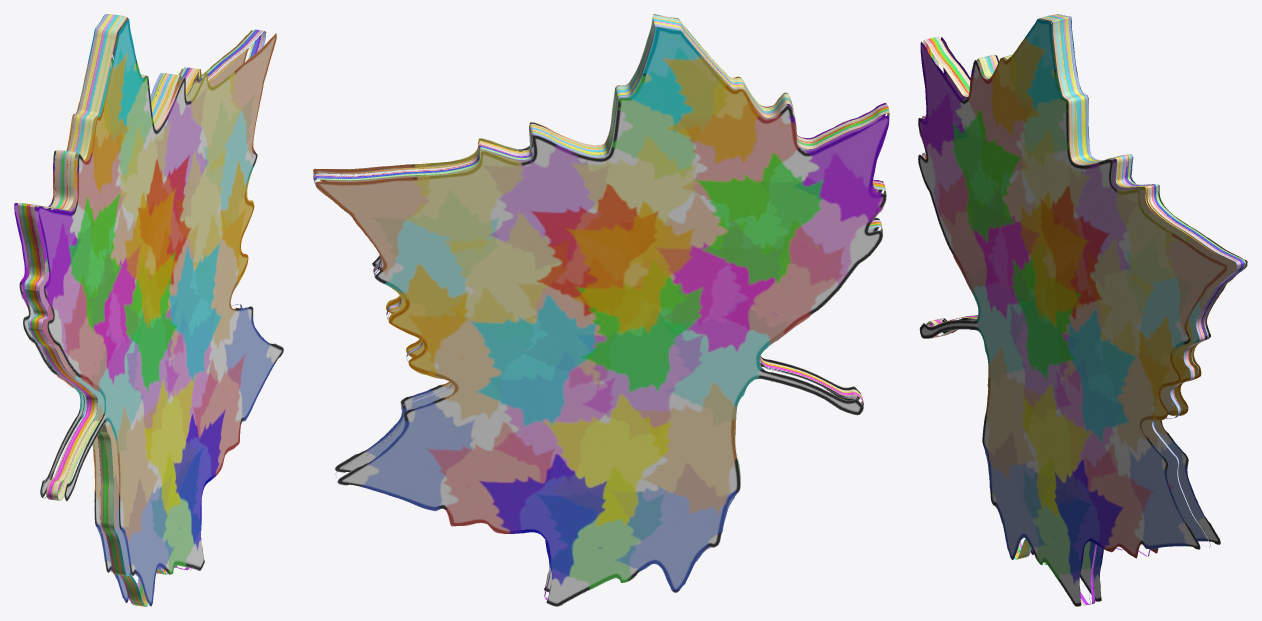
The model's file is leaf2.fbx.
The picture shows the model from 3 angles, left to right: view 1: azimuth 30°, elevation 25°; view 2: azimuth 150°, elevation 25°; view 3: azimuth 270°, elevation 25°; orthographic projection. The views are drawn at different scales.
Visible parts, largest first — view 1: leaf4; view 2: leaf4; view 3: leaf4.
Boxes of the visible parts, x1,y1,x2,y2 form: leaf4: (14, 14, 283, 606); leaf4: (313, 14, 889, 606); leaf4: (918, 14, 1247, 606).
Bounding box in the file's own units: 0.1541 × 0.2072 × 0.1131.
1 material, 1 textured.
